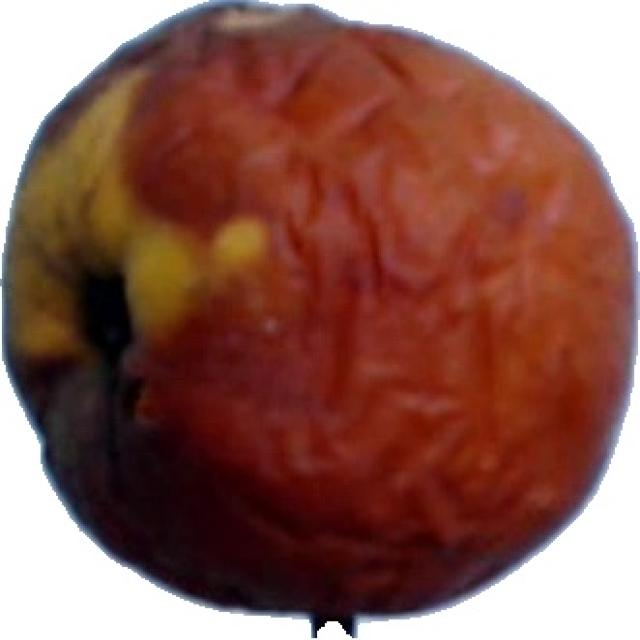Bozuk Elma: (0, 0, 638, 633)
